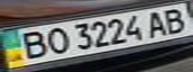2: (106, 16, 130, 46), (90, 17, 112, 48)
3: (69, 20, 93, 52)
4: (121, 11, 148, 43)
A: (142, 8, 175, 38)
B: (12, 28, 51, 61), (157, 6, 190, 35)
O: (39, 25, 72, 55)
